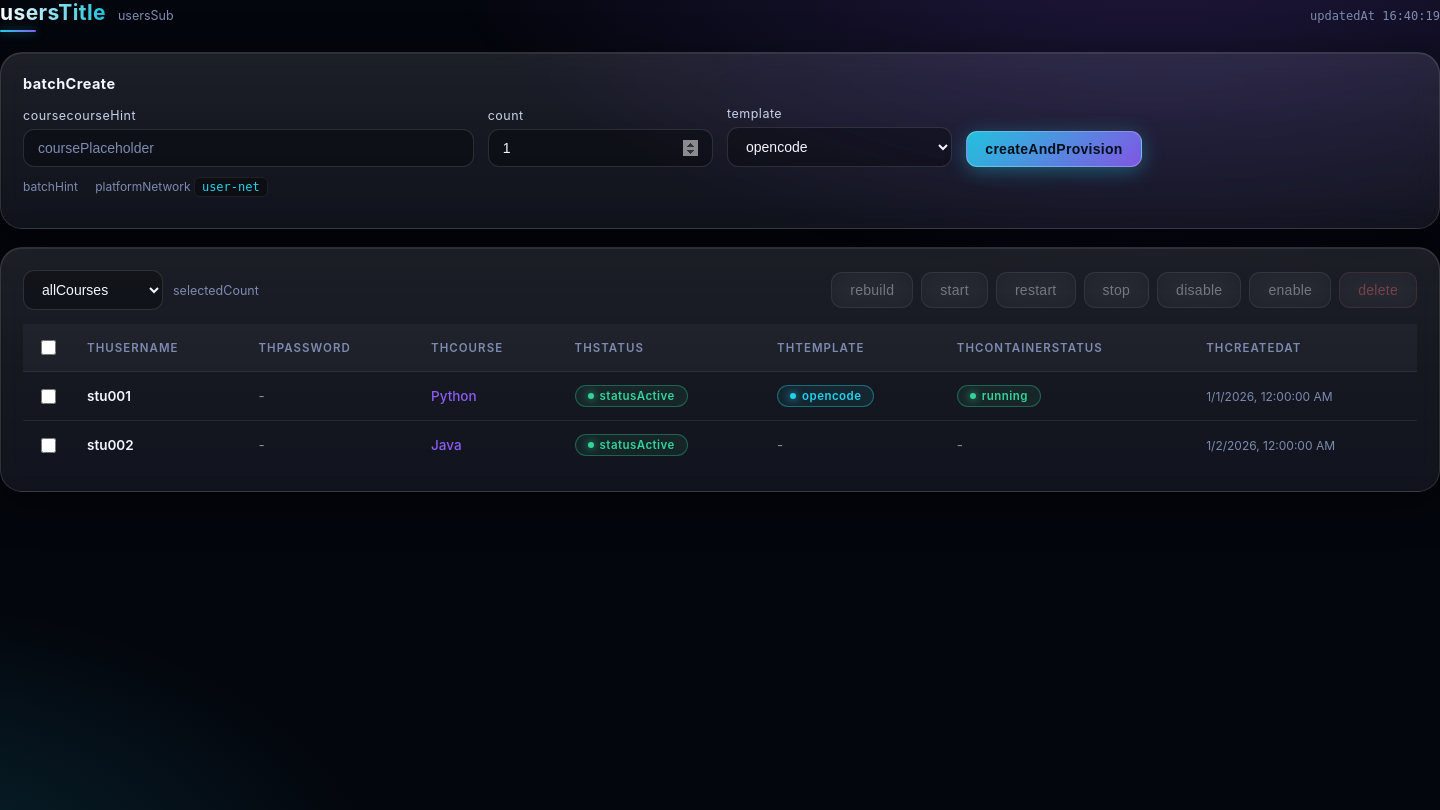
Test: Users › cancels the confirm dialog and clears the expiry with the x button
The image size is (1440, 810).
Click the checkbox next to "stu001": (48, 396) [41, 388, 56, 404]
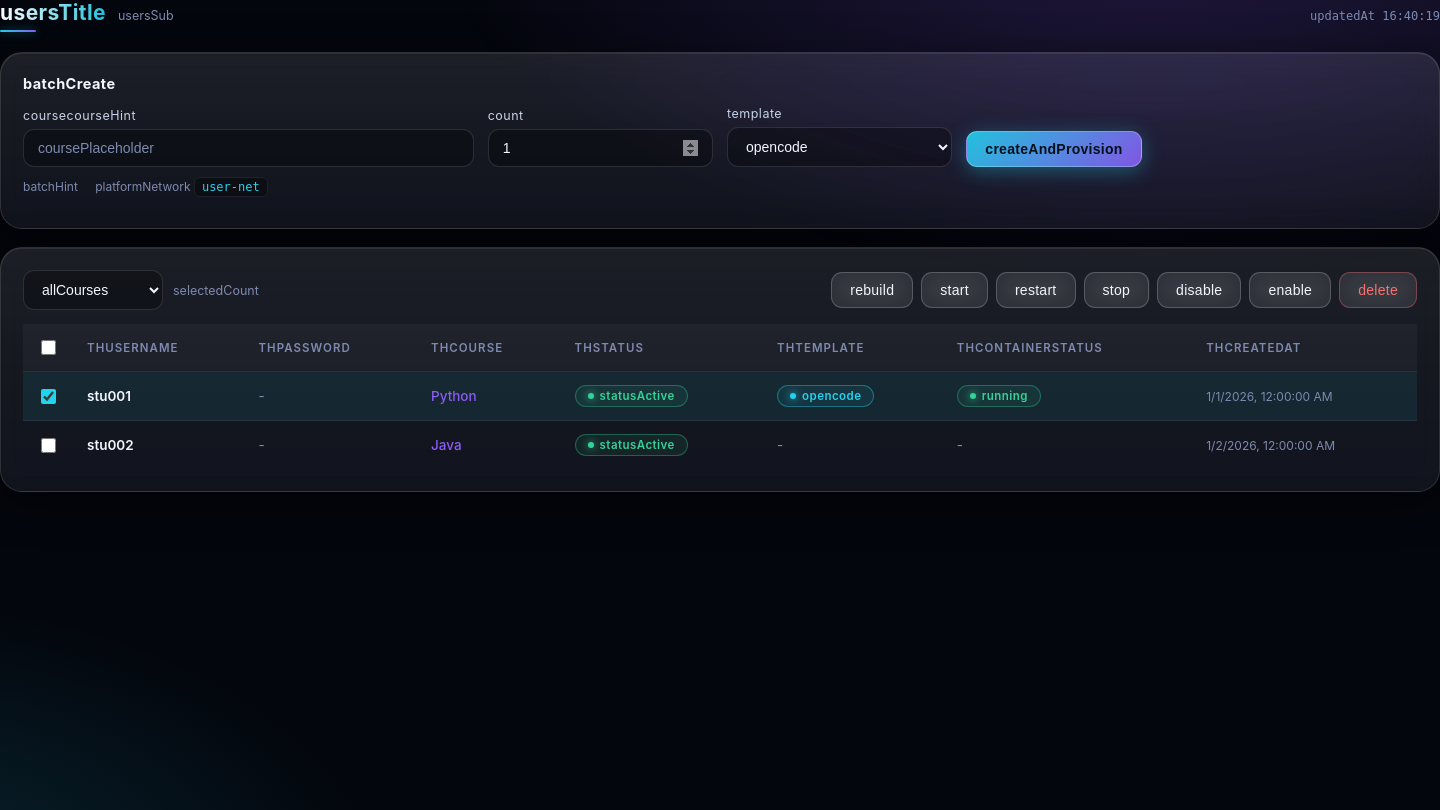
Click the button "delete": (1378, 290) [1339, 272, 1417, 308]
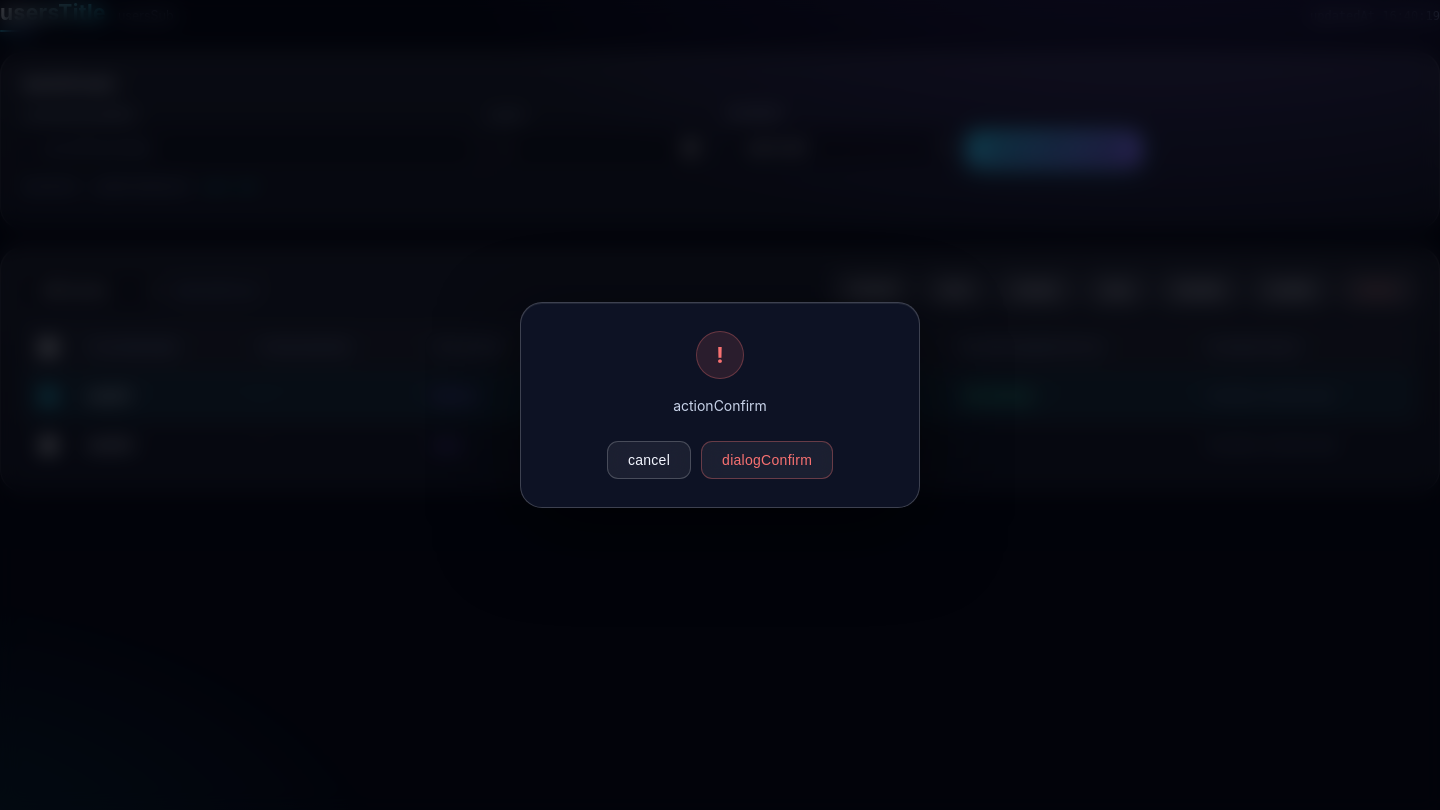
Click the button "cancel": (649, 460) [607, 441, 691, 479]
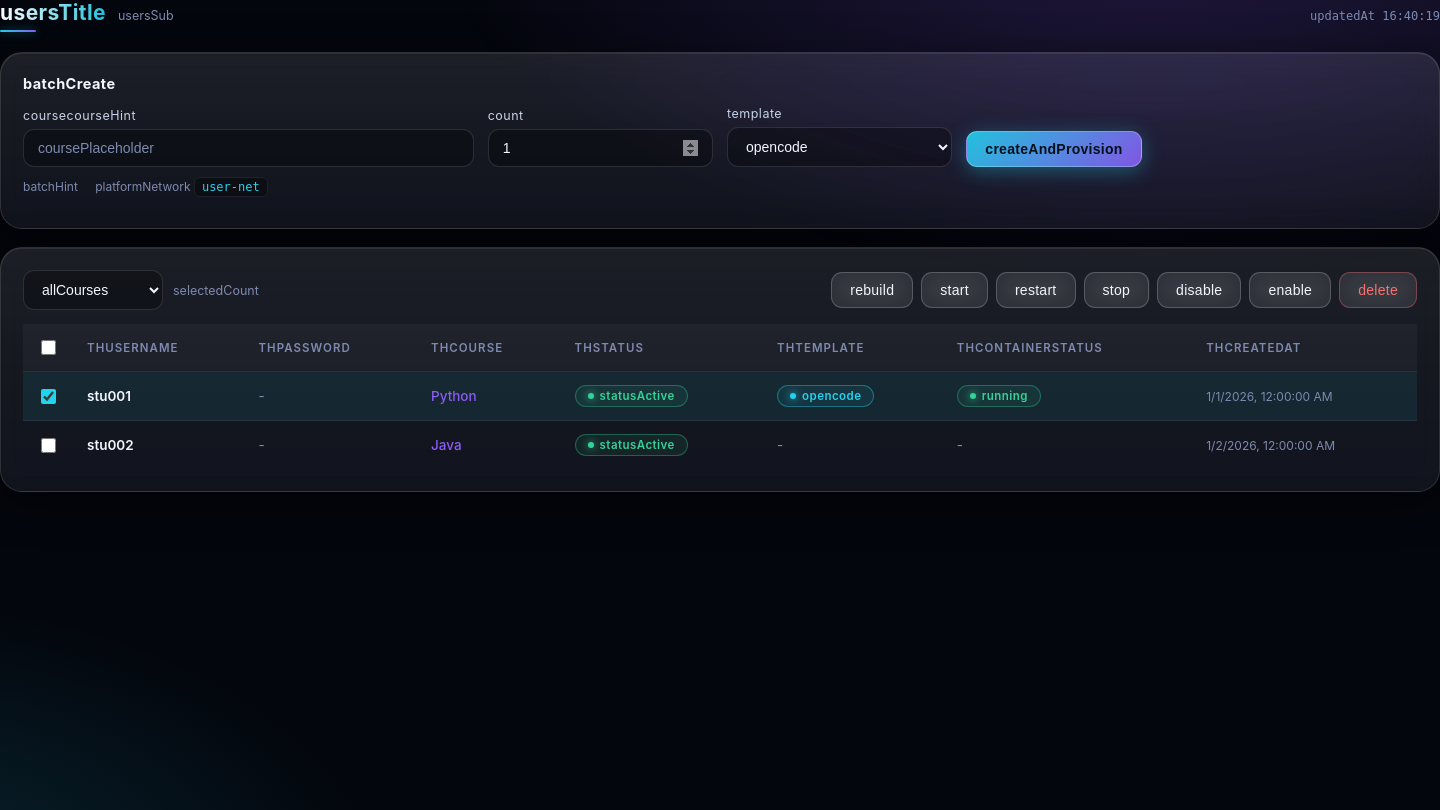
Click the text with class "clickable" in the row of "stu001": (631, 396) [575, 385, 688, 407]
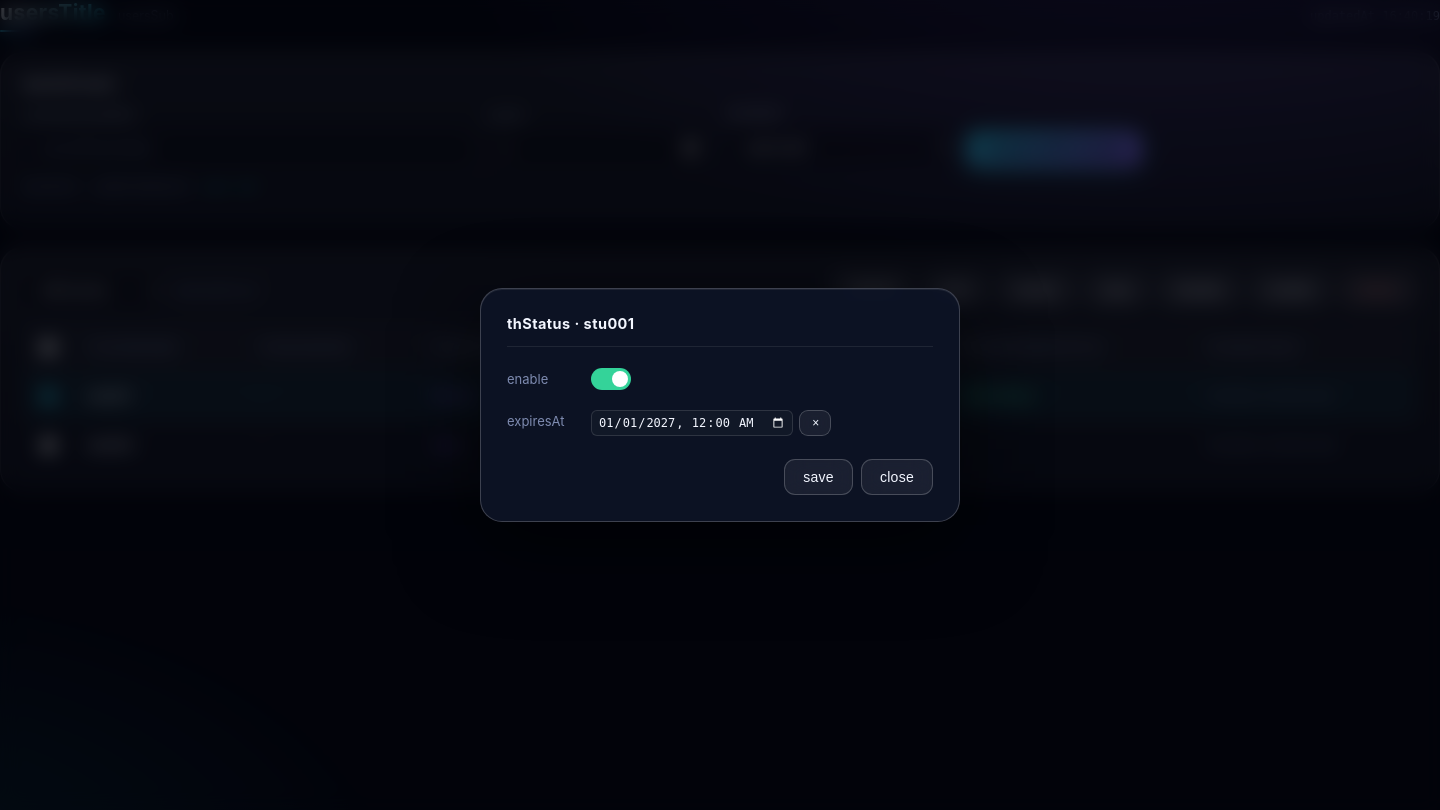
Replace the text in the field with class "expiry-in" with "2027-01-01T10:00": (692, 423) [591, 410, 793, 436]
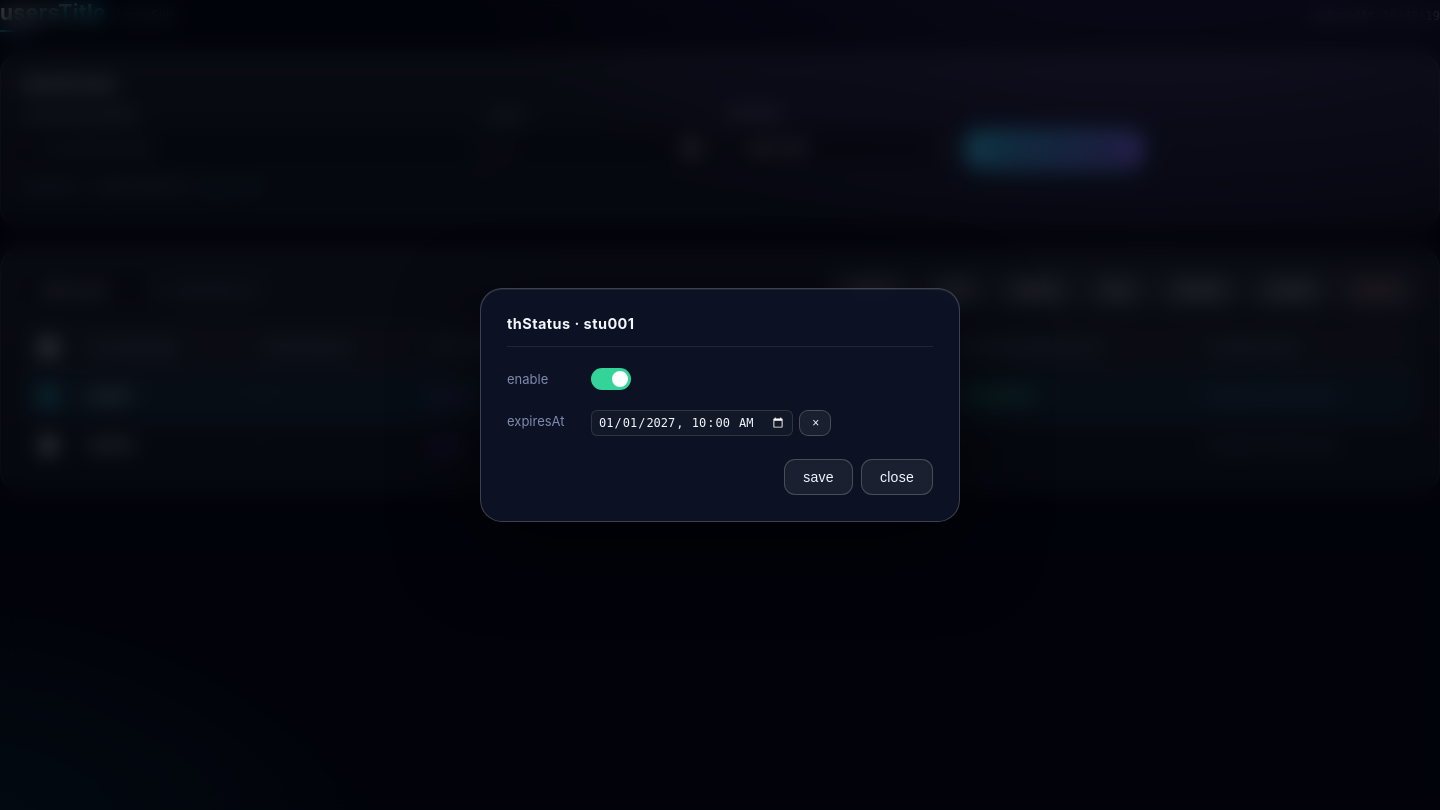
Click the button "×": (815, 423) [799, 410, 831, 436]
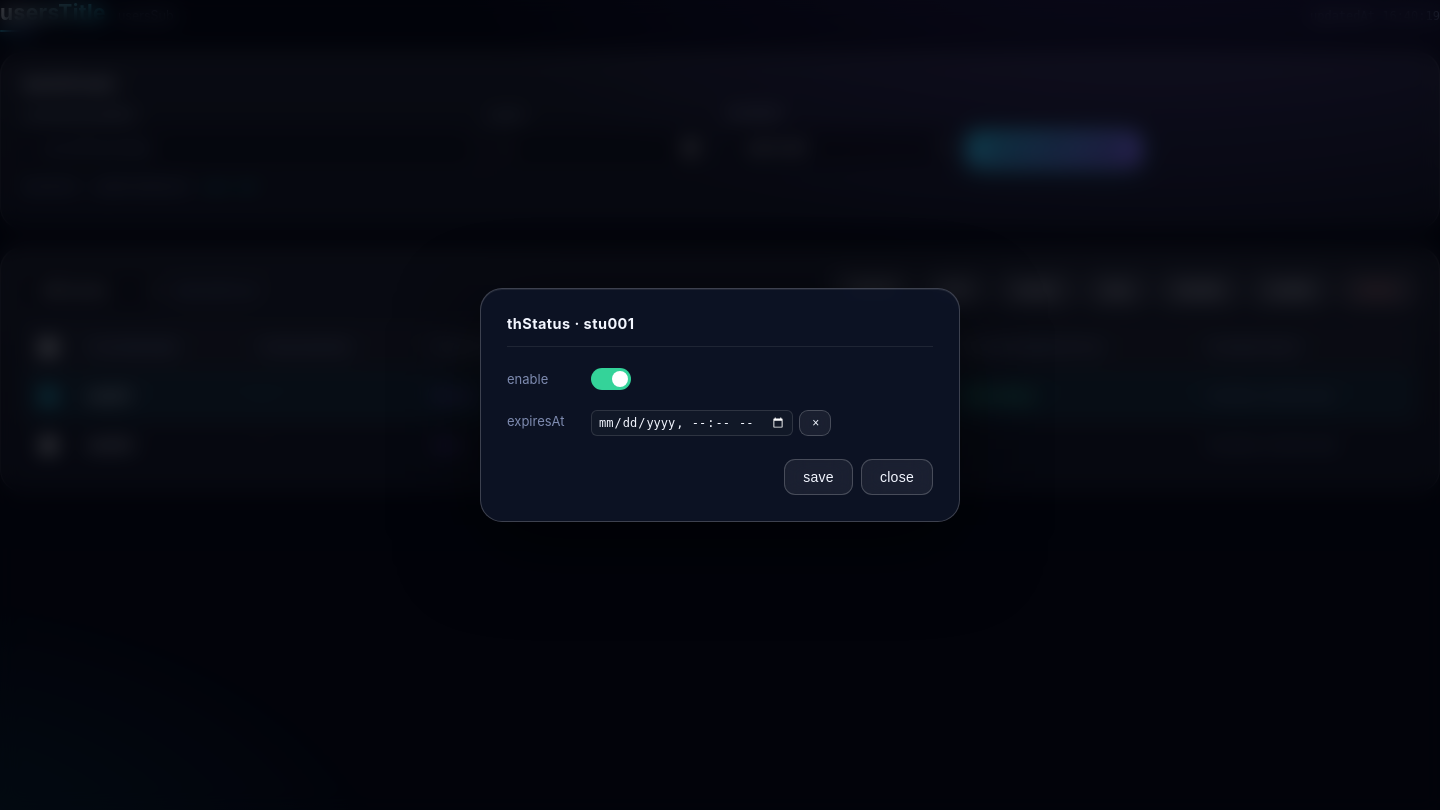
Check: the field with class "expiry-in" is empty, box [591, 410, 793, 436]
